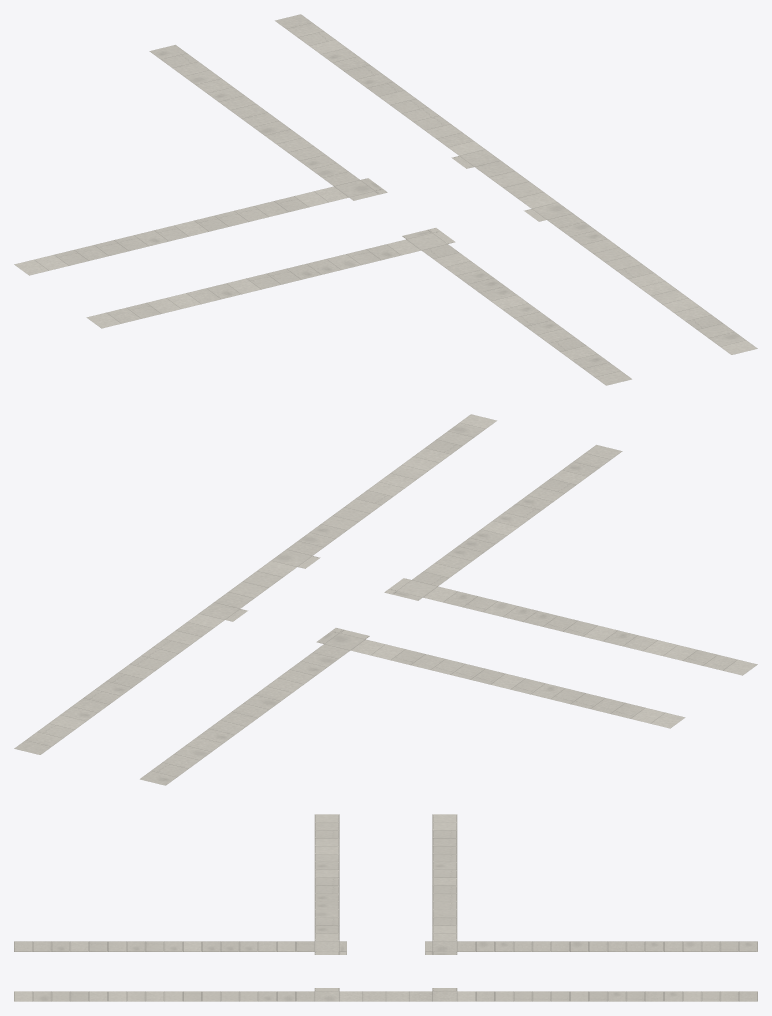
Rendered from paving_p1_TeeWest.gltf.
The picture shows the model from 3 angles, top to bottom: view 1: azimuth 30°, elevation 25°; view 2: azimuth 150°, elevation 25°; view 3: azimuth 270°, elevation 25°; orthographic projection. The views are drawn at different scales.
Parts seen in each view (by area): view 1: paving_p1_TeeWest; view 2: paving_p1_TeeWest; view 3: paving_p1_TeeWest.
Boxes of the visible parts, x1=… form: paving_p1_TeeWest: x1=14, y1=14, x2=757, y2=385; paving_p1_TeeWest: x1=14, y1=414, x2=757, y2=785; paving_p1_TeeWest: x1=14, y1=814, x2=757, y2=1001.
Size of the model in its own units: 35.75 by 0 by 60.
1 material, 1 textured.
